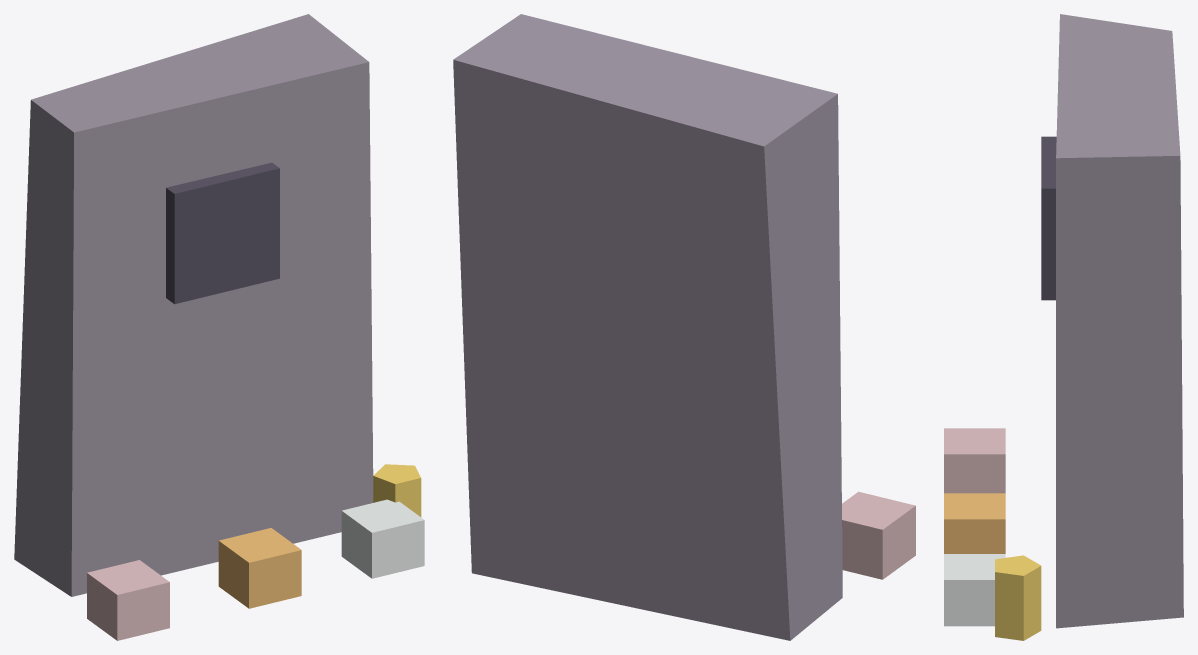
Rendered from memorial_stone.glb.
3 renders of one model, left to right at view 1: azimuth 30°, elevation 25°; view 2: azimuth 150°, elevation 25°; view 3: azimuth 270°, elevation 25°, orthographic. The views are drawn at different scales.
Parts seen in each view (by area): view 1: slab, detail_mark, detail_flower1, detail_flower2, detail_flower0, detail_candle; view 2: slab, detail_flower0; view 3: slab, detail_flower0, detail_flower1, detail_flower2, detail_candle, detail_mark.
Boxes of the visible parts, x1,y1,x2,y2 form: slab: [14, 14, 373, 596]; detail_mark: [166, 162, 279, 304]; detail_flower1: [218, 528, 301, 608]; detail_flower2: [341, 499, 424, 578]; detail_flower0: [87, 560, 169, 640]; detail_candle: [373, 464, 421, 516]; slab: [453, 14, 842, 640]; detail_flower0: [842, 491, 915, 579]; slab: [1056, 14, 1183, 628]; detail_flower0: [944, 428, 1005, 493]; detail_flower1: [944, 493, 1005, 553]; detail_flower2: [944, 554, 1005, 626]; detail_candle: [995, 555, 1041, 640]; detail_mark: [1041, 136, 1056, 300].
Bounding box in the file's own units: 0.3838 × 0.5072 × 0.234.
